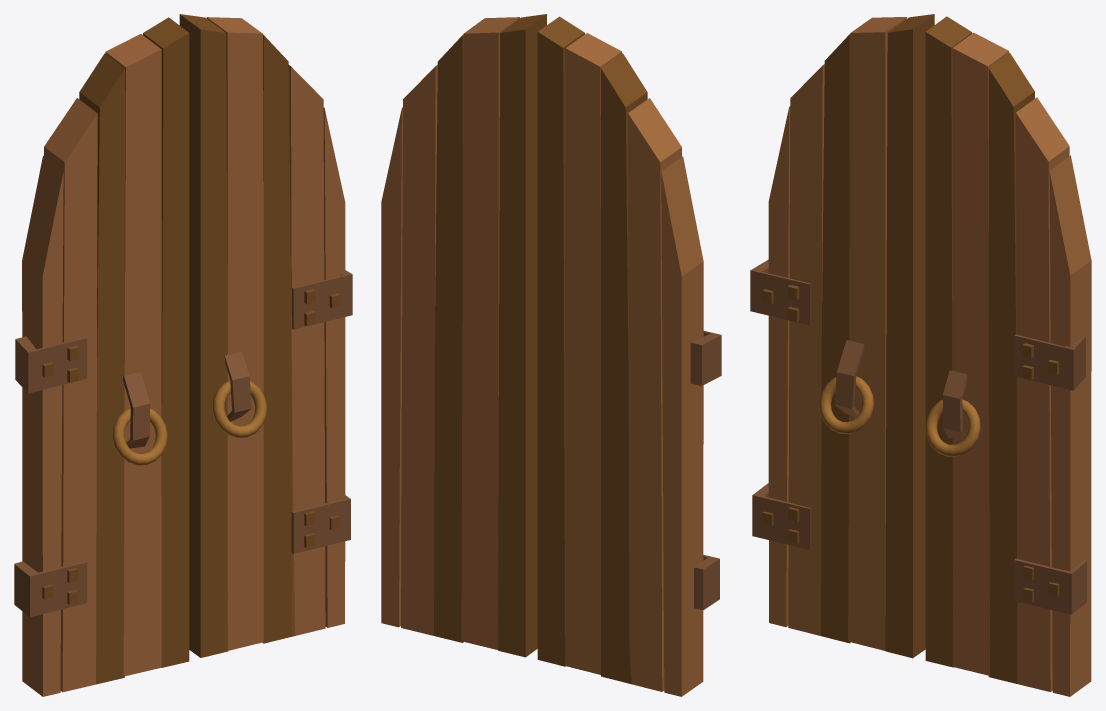
Rendered from Gate2.fbx.
The picture shows the model from 3 angles, left to right: view 1: azimuth 30°, elevation 25°; view 2: azimuth 150°, elevation 25°; view 3: azimuth 330°, elevation 25°; orthographic projection.
Visible parts, largest first — view 1: door wood 4, door wood 5.001; view 2: door wood 4, door wood 5.001; view 3: door wood 5.001, door wood 4.
Part boxes in pixels (x1,y1,x2,y2): door wood 4: (14,17,189,696); door wood 5.001: (179,14,352,657); door wood 4: (537,16,721,696); door wood 5.001: (381,14,546,657); door wood 5.001: (925,16,1091,696); door wood 4: (750,14,934,658).
Bounding box in the file's own units: 1.06 × 1.96 × 0.2218.
